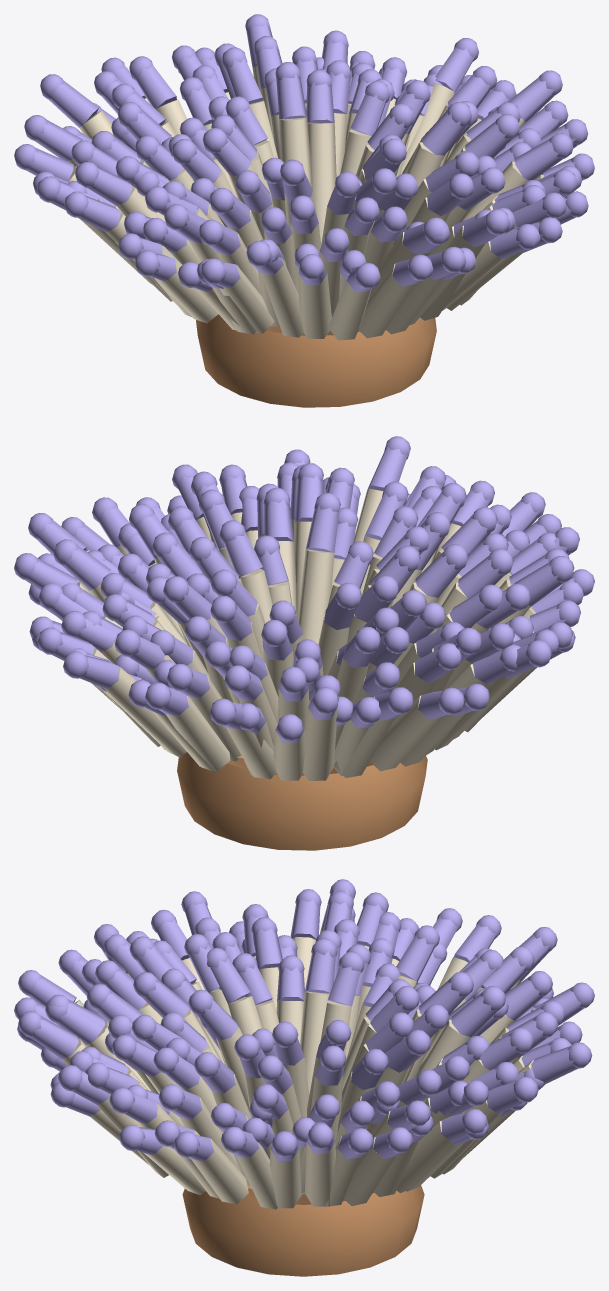
The model's file is anemone.glb.
3 renders of one model, top to bottom at view 1: azimuth 30°, elevation 25°; view 2: azimuth 150°, elevation 25°; view 3: azimuth 270°, elevation 25°, orthographic. The views are drawn at different scales.
Visible parts, largest first — view 1: column0, tent10, tent108, tent111, tent110, tent109, tent112, tent9, tent115, tent107, tip124, tip63 (+75 smaller); view 2: column0, tent2, tent121, tent128, tent124, tent130, tent126, tent125, tent122, tip2, tip94, tip20 (+86 smaller); view 3: column0, tent98, tent6, tent139, tent137, tent135, tent96, tent97, tip105, tent100, tip53, tip130 (+80 smaller).
Boxes of the visible parts, left/top/right/bottom form: column0: left=196, top=243, right=436, bottom=407; tent10: left=308, top=123, right=336, bottom=242; tent108: left=358, top=263, right=414, bottom=338; tent111: left=261, top=258, right=303, bottom=337; tent110: left=298, top=273, right=331, bottom=338; tent109: left=329, top=270, right=371, bottom=340; tent112: left=219, top=265, right=274, bottom=333; tent9: left=279, top=117, right=311, bottom=186; tent115: left=155, top=259, right=218, bottom=323; tent107: left=386, top=277, right=444, bottom=334; tip124: left=48, top=79, right=98, bottom=127; tip63: left=515, top=139, right=562, bottom=180; column0: left=177, top=752, right=427, bottom=850; tent2: left=298, top=549, right=334, bottom=644; tent121: left=370, top=695, right=440, bottom=771; tent128: left=165, top=696, right=230, bottom=771; tent124: left=303, top=707, right=337, bottom=780; tent130: left=104, top=666, right=186, bottom=757; tent126: left=226, top=728, right=276, bottom=779; tent125: left=273, top=730, right=305, bottom=780; tent122: left=334, top=697, right=394, bottom=777; tip2: left=306, top=505, right=339, bottom=552; tip94: left=63, top=546, right=110, bottom=590; tip20: left=415, top=551, right=461, bottom=597; column0: left=182, top=1185, right=424, bottom=1276; tent98: left=191, top=1139, right=248, bottom=1204; tent6: left=300, top=991, right=329, bottom=1094; tent139: left=304, top=1142, right=335, bottom=1206; tent137: left=344, top=1137, right=395, bottom=1205; tent135: left=396, top=1121, right=452, bottom=1193; tent96: left=269, top=1149, right=301, bottom=1208; tent97: left=236, top=1142, right=277, bottom=1209; tip105: left=28, top=1016, right=78, bottom=1059; tent100: left=143, top=1146, right=205, bottom=1195; tip53: left=451, top=993, right=497, bottom=1036; tip130: left=531, top=1046, right=577, bottom=1083.
Size of the model in its own units: 0.7808 by 0.3738 by 0.768.
